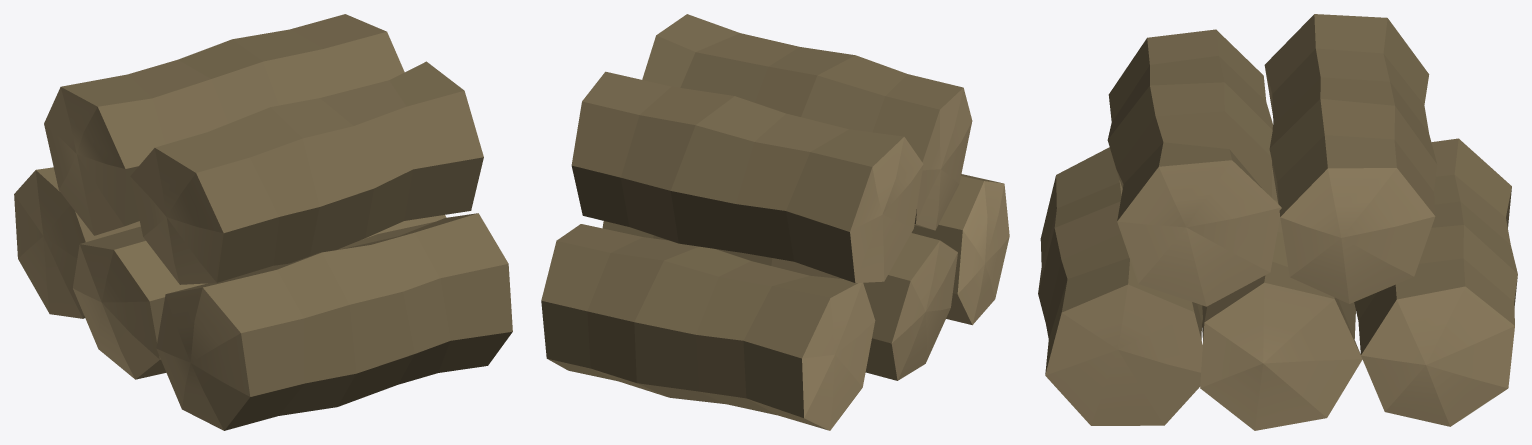
The model's file is Hut_logpile.fbx.
3 views of the same model, side by side, from view 1: azimuth 30°, elevation 25°; view 2: azimuth 150°, elevation 25°; view 3: azimuth 270°, elevation 25° (orthographic). The views are drawn at different scales.
Parts seen in each view (by area): view 1: pasted__pasted__pCylinder5; view 2: pasted__pasted__pCylinder5; view 3: pasted__pasted__pCylinder5.
Part boxes in pixels (x1,y1,x2,y2): pasted__pasted__pCylinder5: [14, 14, 512, 430]; pasted__pasted__pCylinder5: [541, 14, 1009, 430]; pasted__pasted__pCylinder5: [1038, 14, 1517, 430].
Size of the model in its own units: 2.86 by 2.31 by 3.61.
